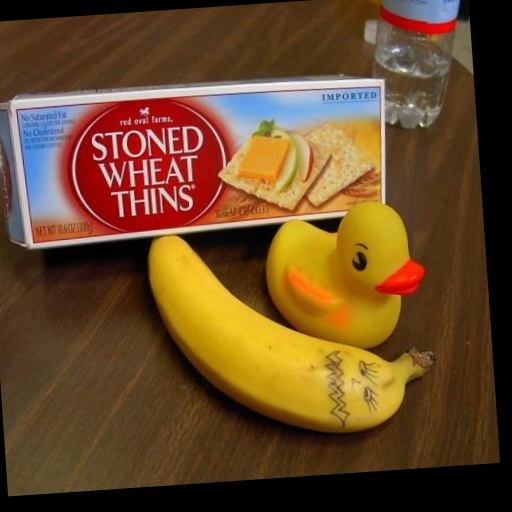fruit: (149, 236, 431, 432), (271, 129, 298, 191), (289, 131, 313, 181)
